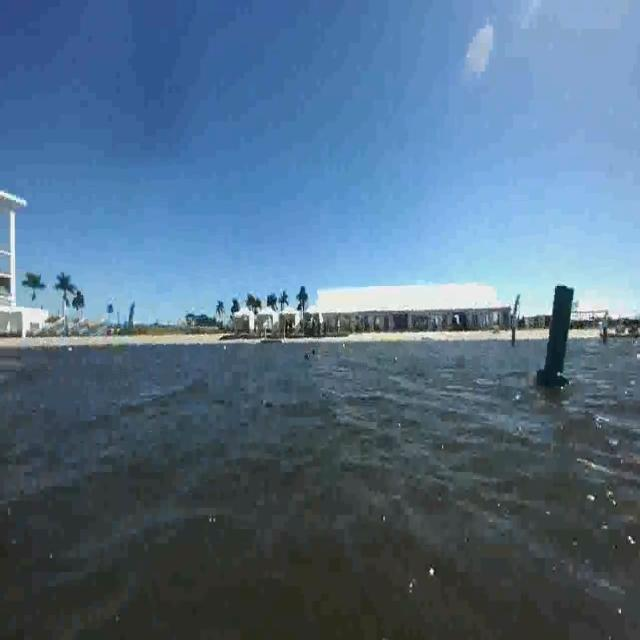green-column-buoy: (537, 281, 577, 390)
